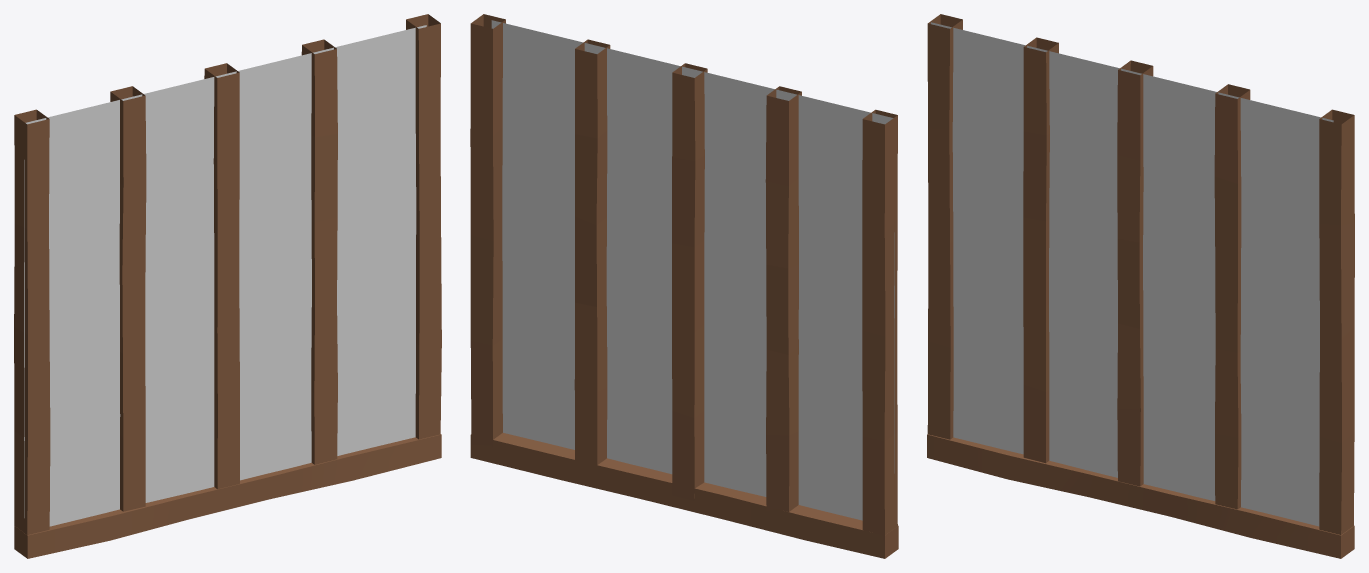
File: PlasterWall4 1.fbx
3 renders of one model, left to right at view 1: azimuth 30°, elevation 25°; view 2: azimuth 150°, elevation 25°; view 3: azimuth 330°, elevation 25°, orthographic.
Visible parts, largest first — view 1: Plaster Wall4; view 2: Plaster Wall4; view 3: Plaster Wall4.
Boxes of the visible parts, x1=… form: Plaster Wall4: x1=14, y1=14, x2=441, y2=558; Plaster Wall4: x1=470, y1=14, x2=898, y2=558; Plaster Wall4: x1=927, y1=14, x2=1354, y2=558.
Size of the model in its own units: 206 by 206 by 13.24.
